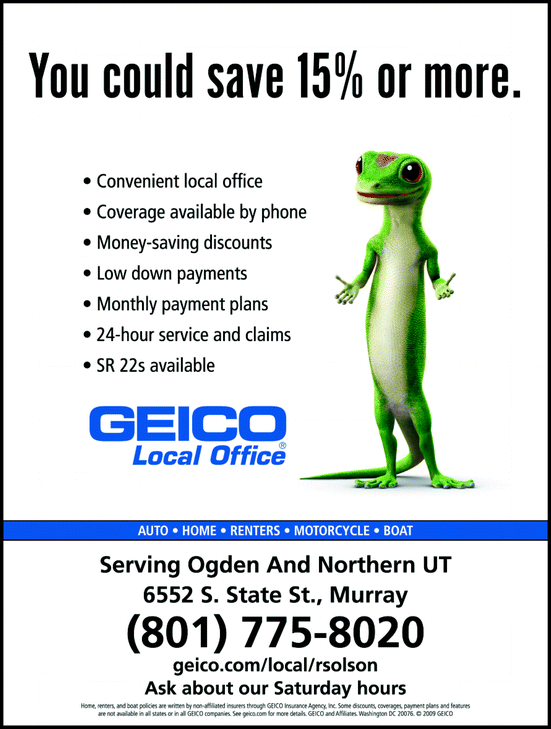geico: (82, 397, 304, 452)
